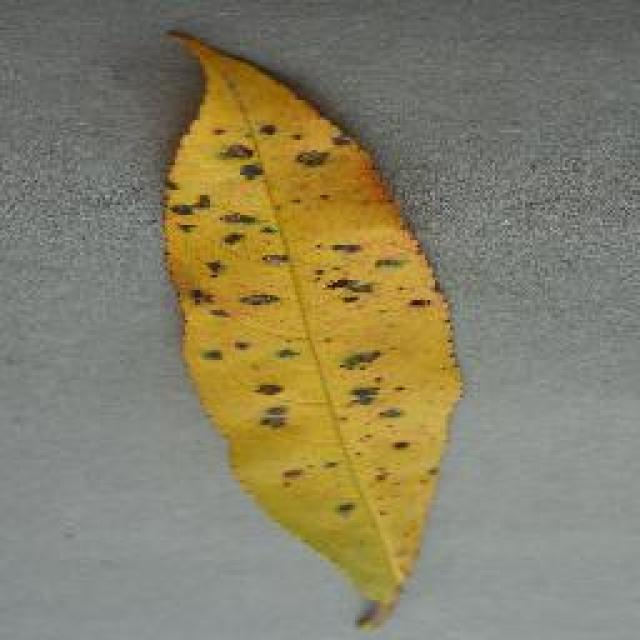Peach_Bacterial_Spot: (164, 100, 454, 552)
